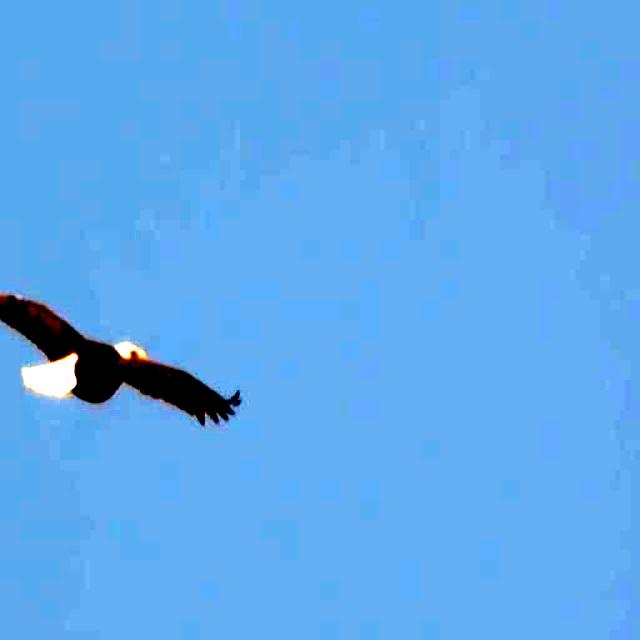airplane: (0, 238, 249, 451)
